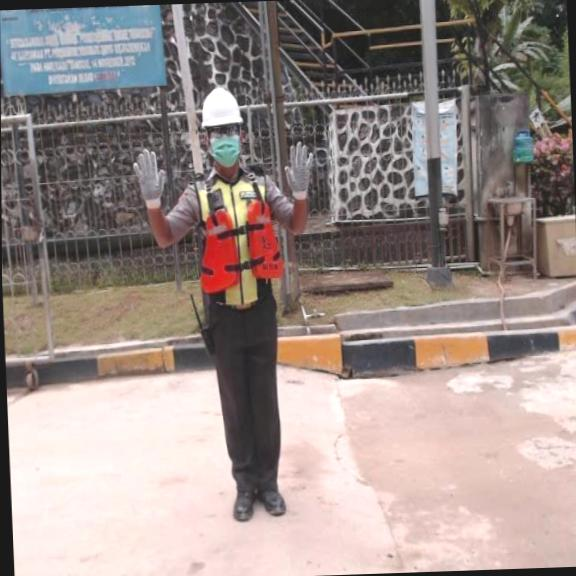safety_vest: (195, 198, 286, 294)
